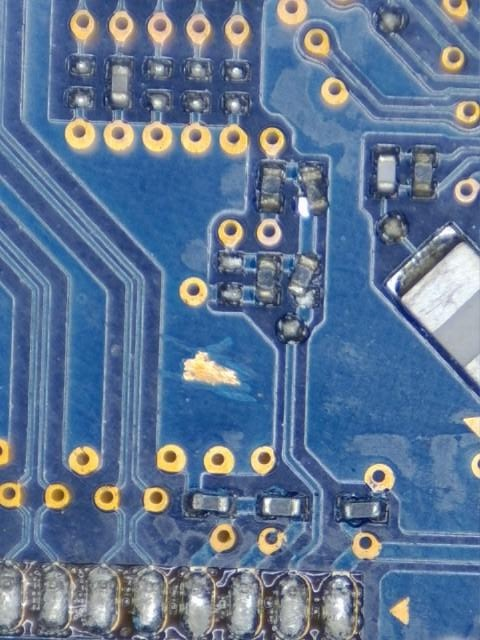pcb_defect: (321, 577, 357, 640), (227, 573, 261, 638), (38, 566, 71, 630), (84, 568, 117, 632), (275, 574, 309, 636), (133, 572, 165, 633), (184, 352, 239, 386), (184, 573, 213, 634), (288, 254, 321, 306), (298, 163, 328, 218), (0, 564, 22, 630)
